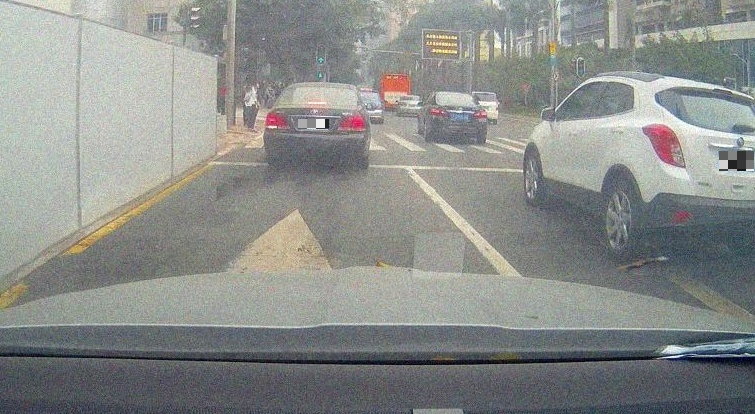L_light: (265, 113, 291, 129), (429, 107, 446, 115)
R_light: (338, 115, 367, 131), (472, 109, 487, 118)
T_light: (307, 100, 327, 105), (451, 94, 462, 98)
day-brake: (263, 82, 371, 170)
day-no: (428, 91, 487, 143)
plate_1: (298, 119, 329, 129)
plate_2: (719, 151, 754, 171)
